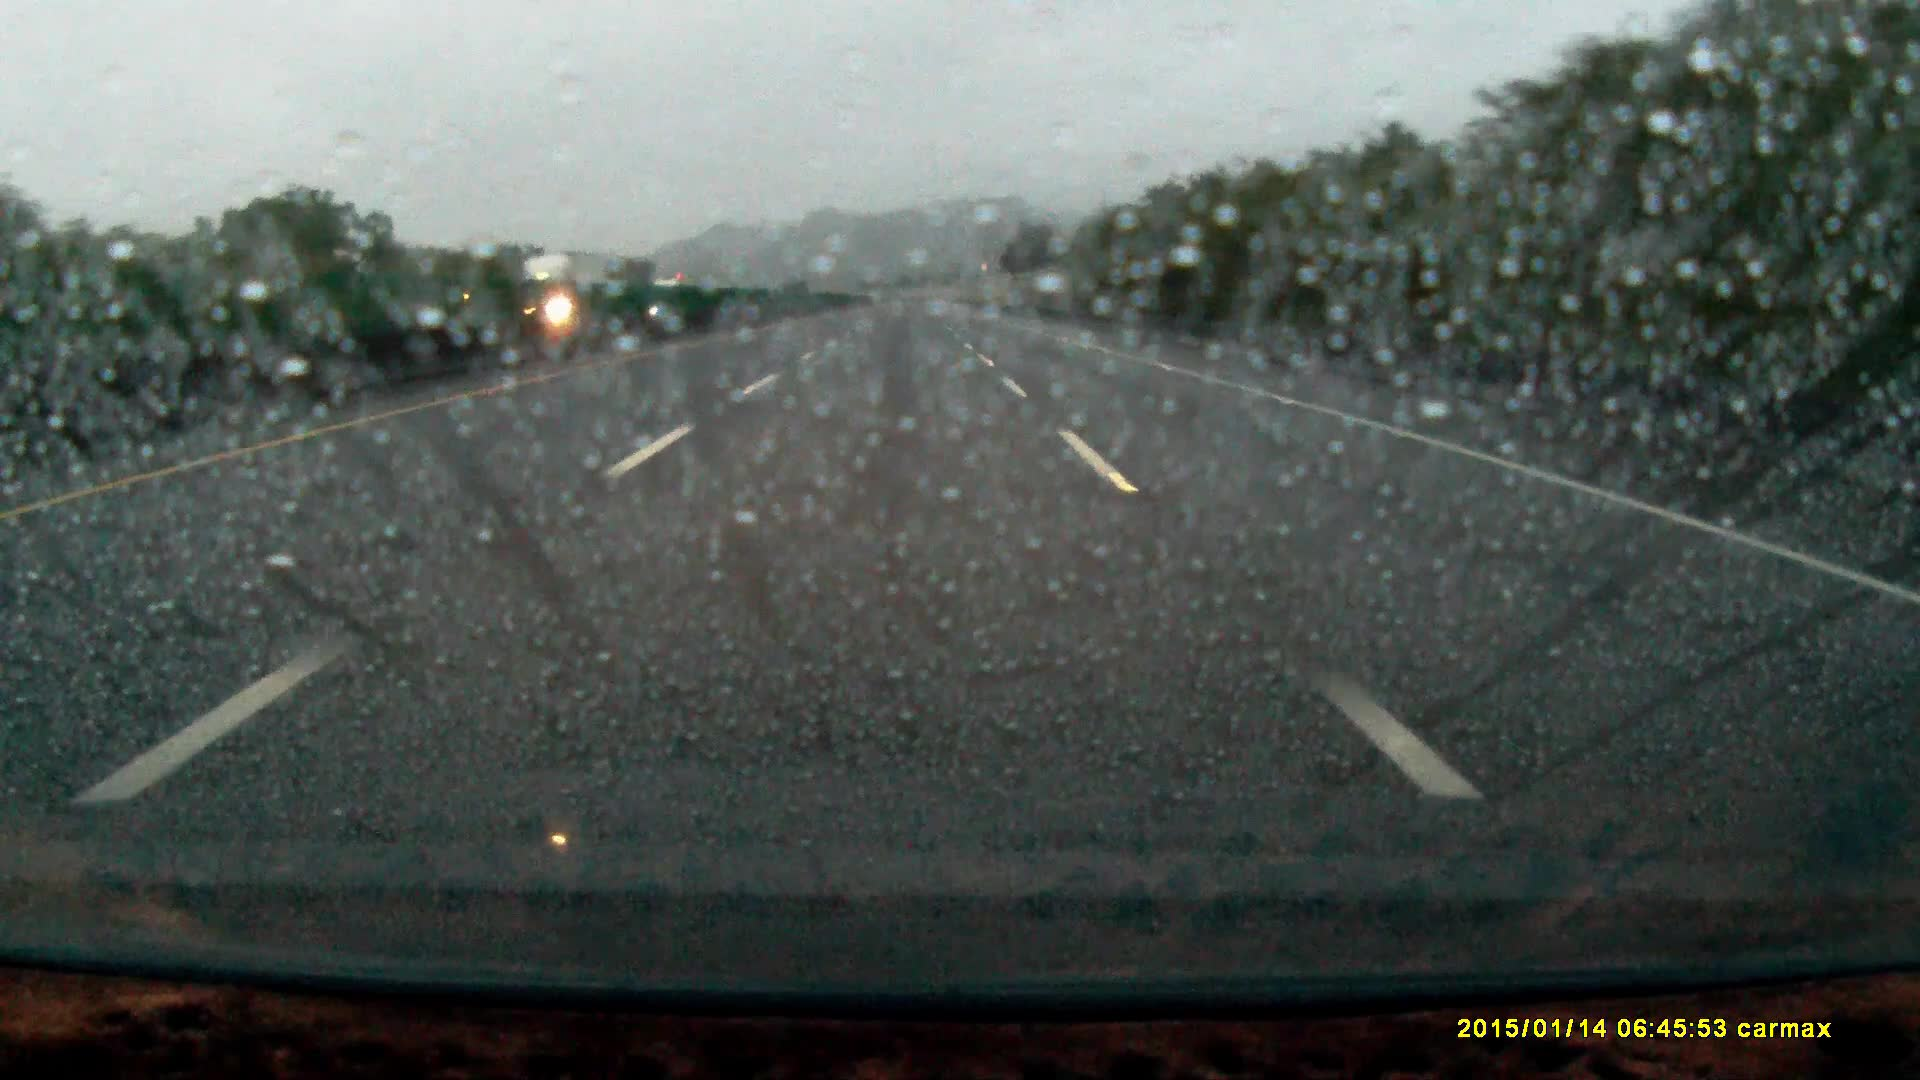vehicle: (524, 252, 624, 334), (654, 278, 699, 313)
